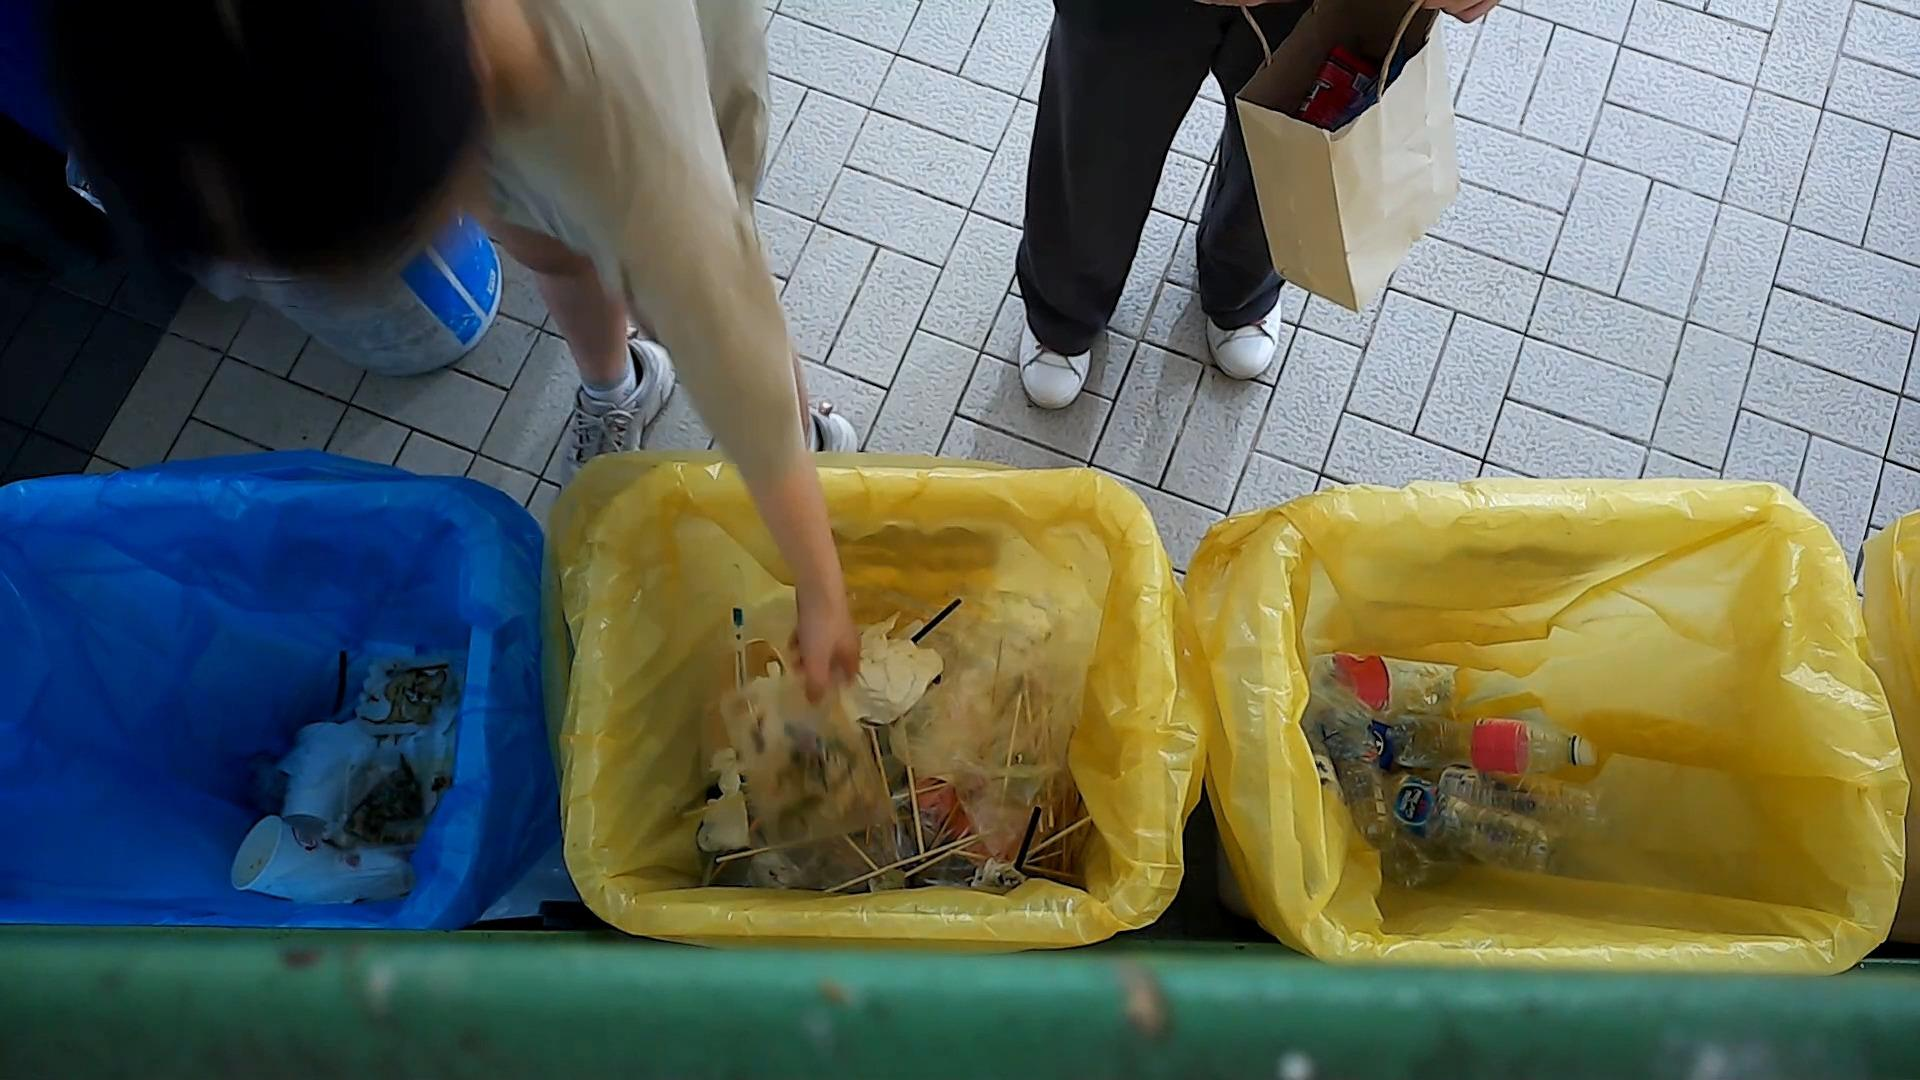dirty food container: (715, 657, 899, 857), (339, 733, 476, 858), (349, 654, 460, 738)
filled plastic bag: (889, 579, 1102, 865)
paper bag: (1225, 0, 1480, 323)
plastic bottle: (1382, 766, 1569, 880), (1435, 765, 1615, 849), (1387, 712, 1604, 778), (1321, 698, 1404, 844)
sticks: (820, 835, 981, 895), (949, 847, 1077, 880), (866, 724, 899, 824), (1026, 812, 1096, 858), (905, 760, 931, 869)
straw: (1013, 803, 1044, 873), (324, 649, 351, 723)
tissue paper: (824, 608, 949, 737), (692, 789, 753, 856), (968, 855, 1030, 898)
zero waste cup: (229, 811, 377, 907), (276, 720, 375, 841)
